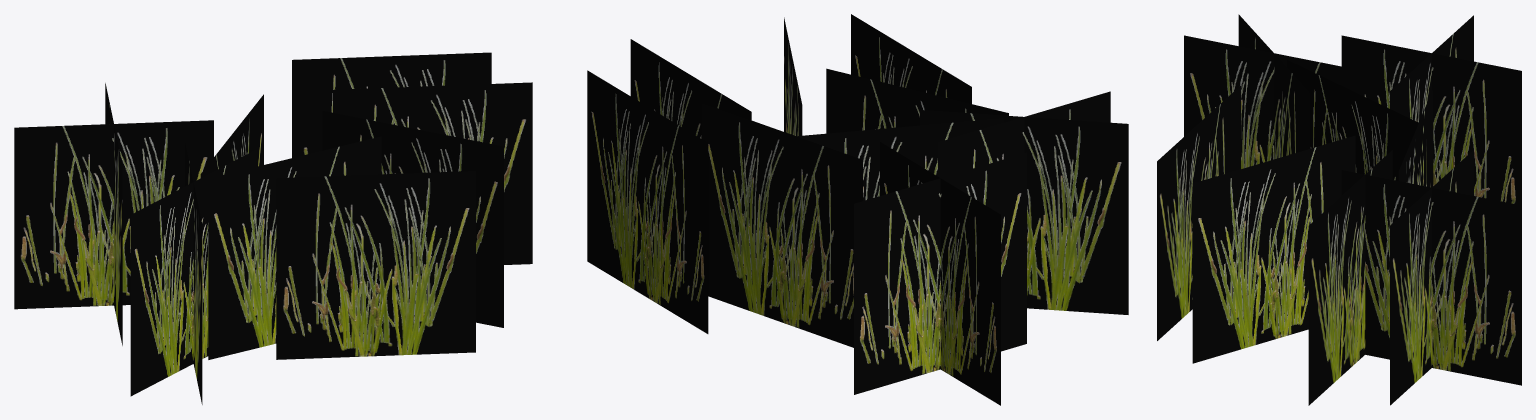
3 views of the same model, side by side, from view 1: azimuth 30°, elevation 25°; view 2: azimuth 150°, elevation 25°; view 3: azimuth 270°, elevation 25° (orthographic). The views are drawn at different scales.
Visible parts, largest first — view 1: PlaneFBXASC046013; view 2: PlaneFBXASC046013; view 3: PlaneFBXASC046013.
Part boxes in pixels (<box>): PlaneFBXASC046013: <box>14,52,532,404</box>; PlaneFBXASC046013: <box>587,14,1128,405</box>; PlaneFBXASC046013: <box>1157,14,1521,405</box>.
Size of the model in its own units: 75.64 by 30 by 55.08.
Materials: 1 (1 with a texture image).
